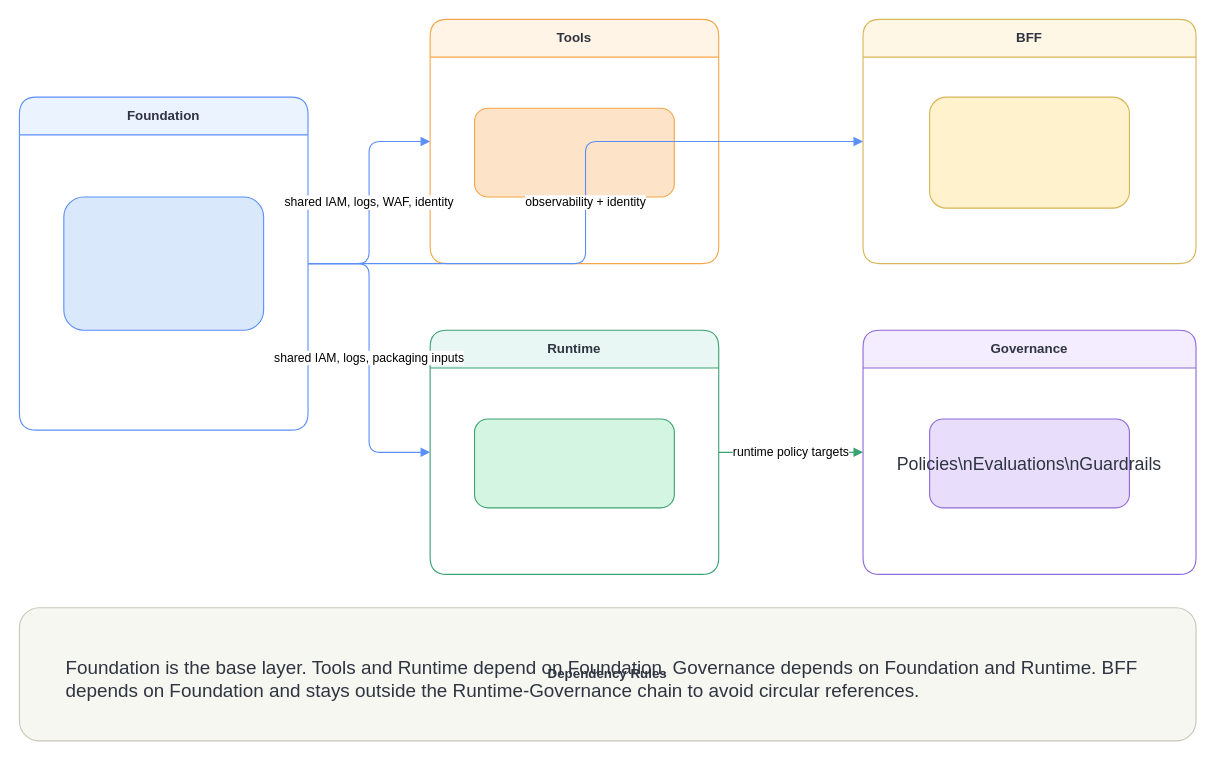
Image size: 1215x760. Some labels were removed from this diagram. Here are the shapes that lost their labels. From the top down, the centre of each, then its label:
pixel 573 152: Code Interpreter\nBrowser
pixel 1029 152: CloudFront\nAPI Gateway\nToken Handler\nStreaming Proxy
pixel 163 263: Gateway\nIdentity\nObservability
pixel 573 463: Runtime\nMemory\nPackaging
